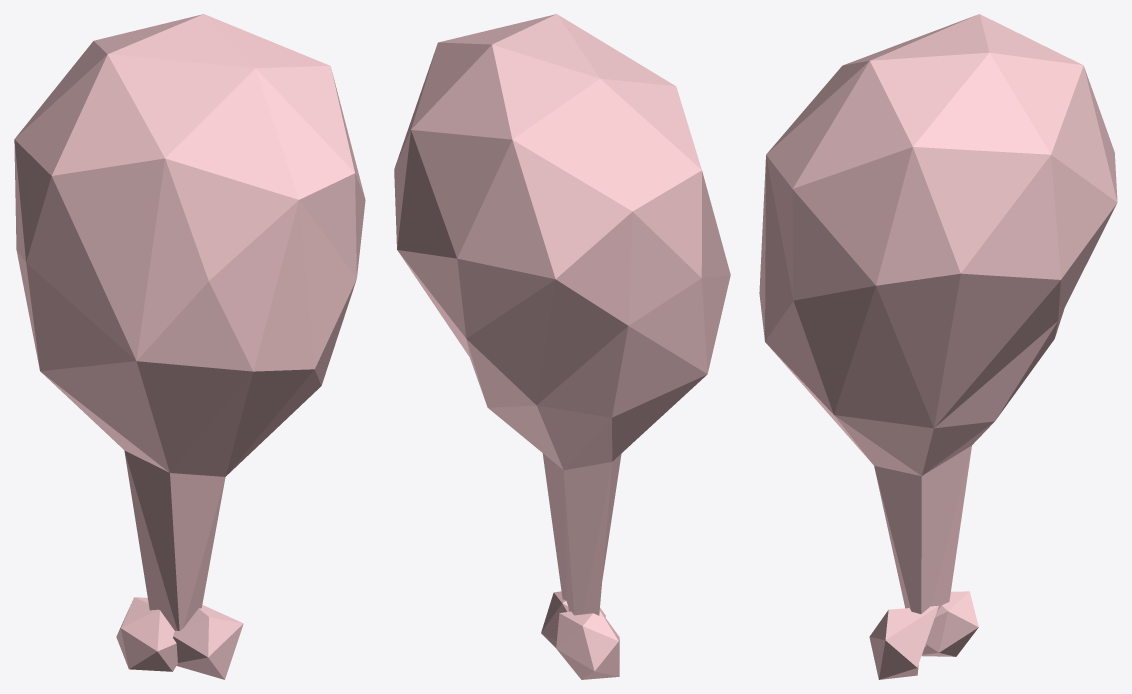
File: SFI_Chicken_Raw_002.fbx
3 renders of one model, left to right at view 1: azimuth 30°, elevation 25°; view 2: azimuth 150°, elevation 25°; view 3: azimuth 270°, elevation 25°, orthographic. The views are drawn at different scales.
Visible parts, largest first — view 1: SFI_Chicken_Raw_002; view 2: SFI_Chicken_Raw_002; view 3: SFI_Chicken_Raw_002.
Part boxes in pixels (x1,y1,x2,y2): SFI_Chicken_Raw_002: (14, 14, 365, 679); SFI_Chicken_Raw_002: (394, 14, 730, 679); SFI_Chicken_Raw_002: (759, 14, 1117, 679).
Size of the model in its own units: 15.89 by 31.21 by 15.74.
